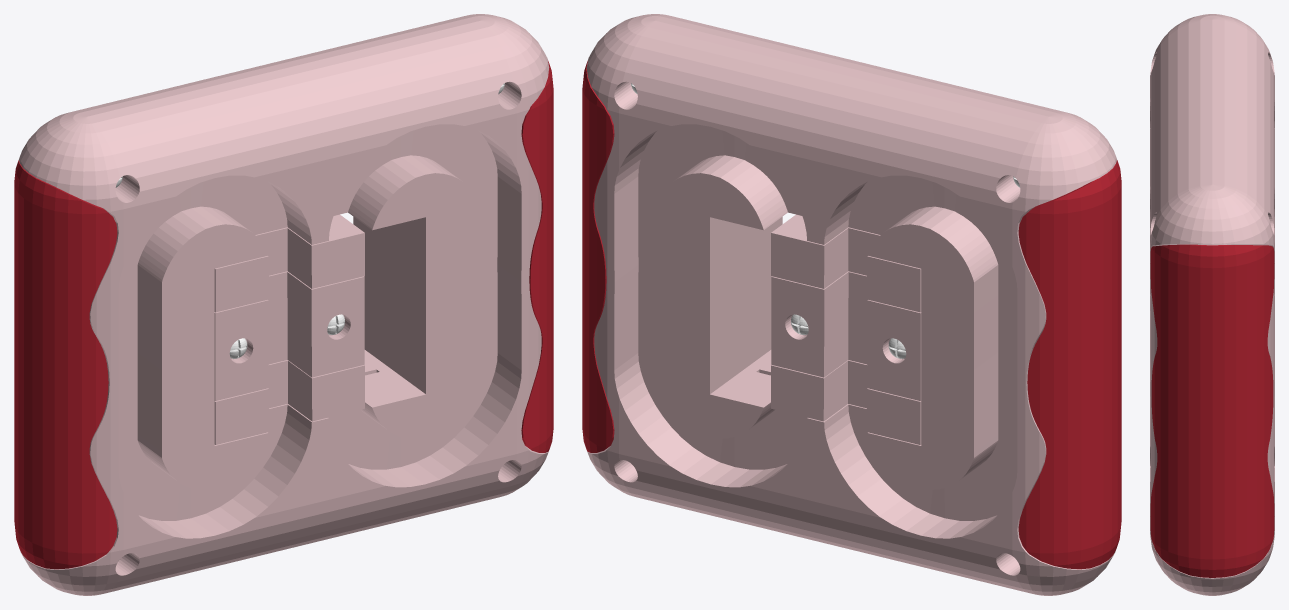
The picture shows the model from 3 angles, left to right: view 1: azimuth 30°, elevation 25°; view 2: azimuth 150°, elevation 25°; view 3: azimuth 270°, elevation 25°; orthographic projection. The views are drawn at different scales.
Visible parts, largest first — view 1: cube, cube.b, block.slide, block.rotate; view 2: cube, cube.b, block.slide, block.rotate; view 3: cube.b, cube.
Boxes of the visible parts, x1=… form: cube: x1=18, y1=14, x2=549, y2=595; cube.b: x1=14, y1=61, x2=553, y2=569; block.slide: x1=214, y1=214, x2=364, y2=444; block.rotate: x1=214, y1=271, x2=364, y2=400; cube: x1=586, y1=14, x2=1116, y2=595; cube.b: x1=582, y1=61, x2=1121, y2=569; block.slide: x1=771, y1=214, x2=921, y2=444; block.rotate: x1=771, y1=271, x2=921, y2=400; cube.b: x1=1150, y1=244, x2=1274, y2=577; cube: x1=1150, y1=14, x2=1274, y2=595.
Size of the model in its own units: 7.42 by 6.45 by 1.8.
